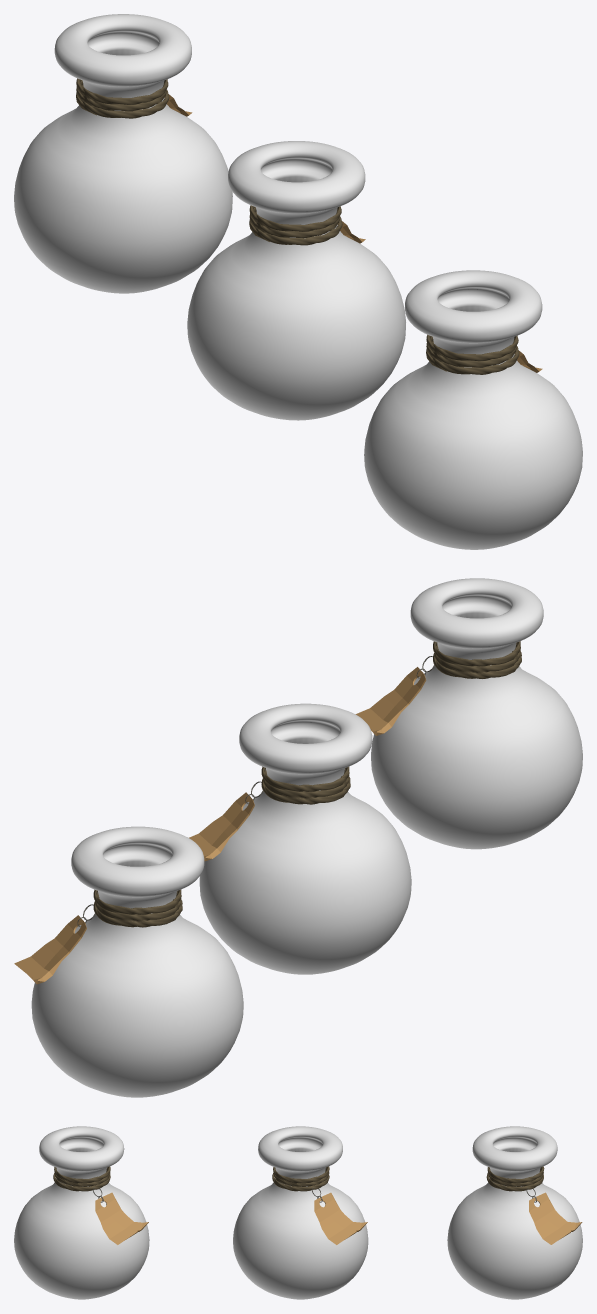
The model's file is flasks.fbx.
The picture shows the model from 3 angles, top to bottom: view 1: azimuth 30°, elevation 25°; view 2: azimuth 150°, elevation 25°; view 3: azimuth 270°, elevation 25°; orthographic projection. The views are drawn at different scales.
Parts seen in each view (by area): view 1: кольба.002, кольба.001, кольба.003, ыереыка, ыереыка.001, ыереыка.002; view 2: кольба.002, кольба.003, кольба.001, ыереыка.001, ыереыка.002, ыереыка, бирка.003, бирка.002, бирка.001; view 3: кольба.002, кольба.001, кольба.003, бирка.001, бирка.002, бирка.003, ыереыка, ыереыка.001, ыереыка.002.
Part boxes in pixels (bbox=[...]): кольба.002: bbox=[364, 270, 582, 549]; кольба.001: bbox=[187, 141, 405, 420]; кольба.003: bbox=[14, 14, 232, 293]; ыереыка: bbox=[426, 334, 519, 374]; ыереыка.001: bbox=[249, 205, 342, 245]; ыереыка.002: bbox=[76, 78, 169, 118]; кольба.002: bbox=[371, 578, 582, 849]; кольба.003: bbox=[31, 826, 243, 1097]; кольба.001: bbox=[199, 703, 411, 974]; ыереыка.001: bbox=[245, 766, 350, 804]; ыереыка.002: bbox=[77, 889, 182, 927]; ыереыка: bbox=[416, 641, 521, 678]; бирка.003: bbox=[14, 915, 86, 984]; бирка.002: bbox=[355, 667, 426, 735]; бирка.001: bbox=[189, 792, 254, 861]; кольба.002: bbox=[14, 1126, 149, 1299]; кольба.001: bbox=[233, 1126, 368, 1299]; кольба.003: bbox=[447, 1126, 582, 1299]; бирка.001: bbox=[314, 1192, 367, 1244]; бирка.002: bbox=[95, 1192, 148, 1244]; бирка.003: bbox=[529, 1192, 582, 1244]; ыереыка: bbox=[53, 1166, 110, 1202]; ыереыка.001: bbox=[272, 1166, 329, 1202]; ыереыка.002: bbox=[486, 1166, 544, 1202].
Size of the model in its own units: 183 by 217 by 752.
